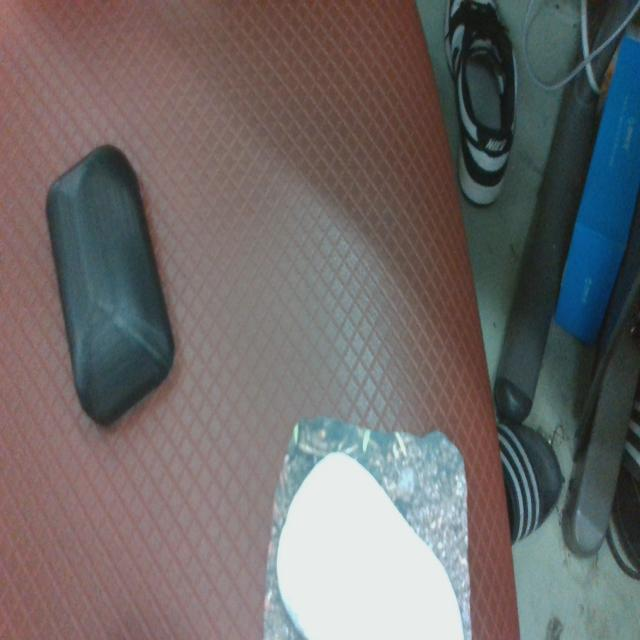non-organic waste: (50, 145, 174, 425), (279, 457, 462, 640)
